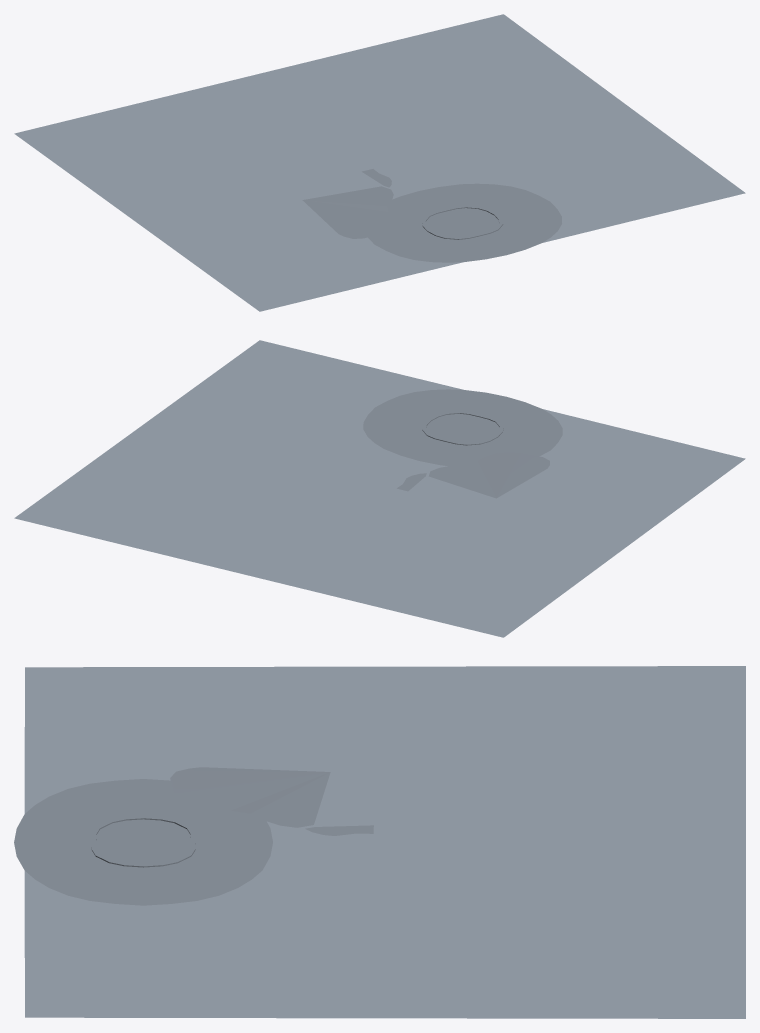
Rendered from gltf__Models__map__Village__startup__v_startup_mergedGround.glb.
3 renders of one model, top to bottom at view 1: azimuth 30°, elevation 25°; view 2: azimuth 150°, elevation 25°; view 3: azimuth 270°, elevation 25°, orthographic. The views are drawn at different scales.
Parts seen in each view (by area): view 1: v_startup_mergedGround; view 2: v_startup_mergedGround; view 3: v_startup_mergedGround.
Boxes of the visible parts, x1,y1,x2,y2 form: v_startup_mergedGround: (14,14,745,311); v_startup_mergedGround: (14,340,745,637); v_startup_mergedGround: (14,666,745,1018).
Size of the model in its own units: 13.4 by 0.0198 by 11.75.
Materials: 2 (2 with a texture image).
